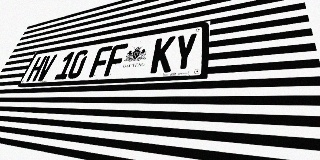0: (66, 49, 90, 79)
1: (54, 51, 77, 80)
F: (103, 43, 128, 77), (88, 46, 113, 78)
H: (26, 56, 47, 82)
K: (150, 36, 176, 73)
V: (35, 54, 57, 81)
Y: (171, 32, 198, 72)
